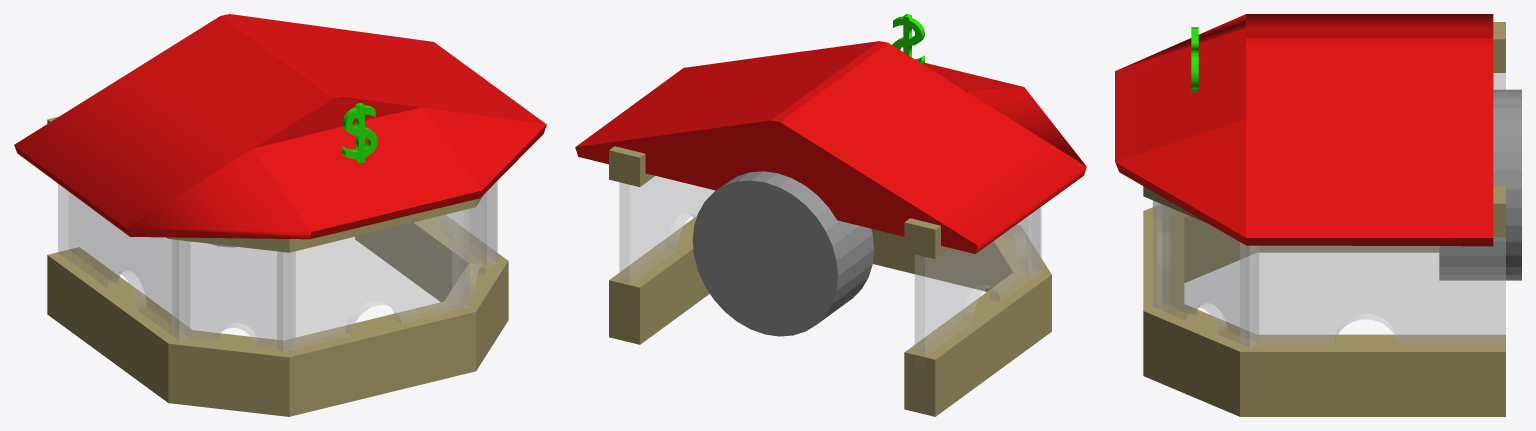
File: Sell.fbx
The picture shows the model from 3 angles, left to right: view 1: azimuth 30°, elevation 25°; view 2: azimuth 150°, elevation 25°; view 3: azimuth 270°, elevation 25°; orthographic projection. The views are drawn at different scales.
Parts seen in each view (by area): view 1: Cube.008, Cube.005, Cube.010, Text; view 2: Cube.008, Cube.005, Cylinder, Cube.010, Text; view 3: Cube.008, Cube.005, Cube.010, Cylinder, Text.
Boxes of the visible parts, x1,y1,x2,y2 form: Cube.008: (14,14,546,239); Cube.005: (47,215,508,416); Cube.010: (47,116,497,352); Text: (342,102,377,163); Cube.008: (575,41,1086,253); Cube.005: (609,216,1051,416); Cylinder: (692,171,874,336); Cube.010: (609,146,1041,366); Text: (892,14,924,64); Cube.008: (1115,14,1493,246); Cube.005: (1143,204,1505,416); Cube.010: (1143,22,1505,347); Cylinder: (1439,89,1521,280); Text: (1191,27,1198,92).
Size of the model in its own units: 2606 by 1613 by 1997.
